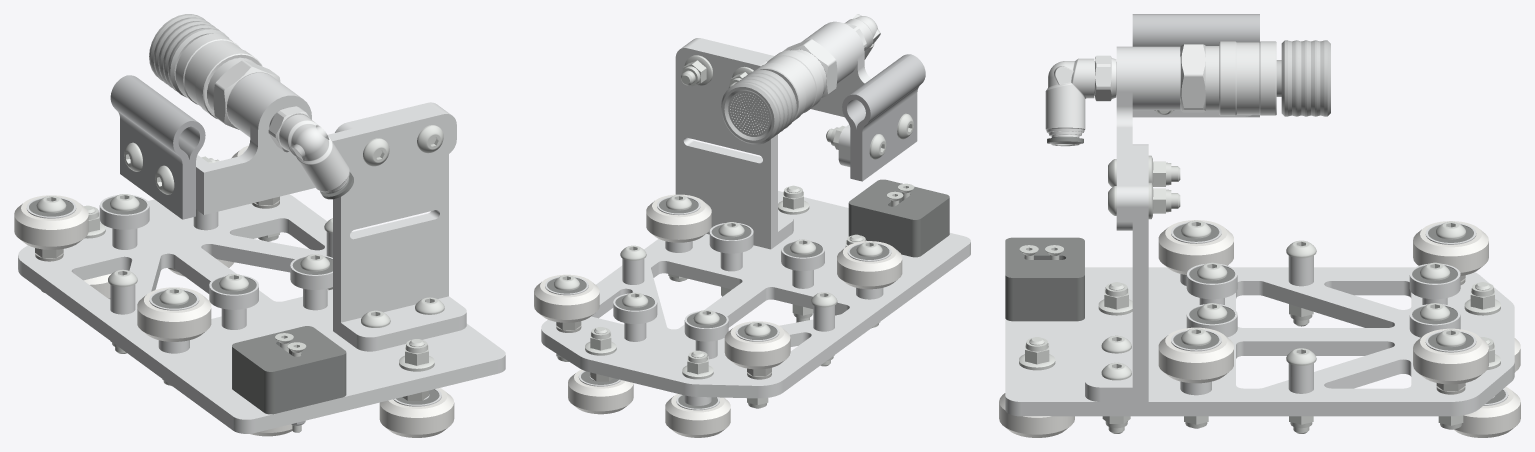
File: cross_slide_v19.glb
3 renders of one model, left to right at view 1: azimuth 30°, elevation 25°; view 2: azimuth 150°, elevation 25°; view 3: azimuth 270°, elevation 25°, orthographic. The views are drawn at different scales.
Visible parts, largest first — view 1: M5 Flange Locknut; view 2: M5 Flange Locknut; view 3: M5 Flange Locknut.
Boxes of the visible parts, left/top/right/bottom form: M5 Flange Locknut: left=14, top=14, right=505, bottom=437; M5 Flange Locknut: left=534, top=14, right=970, bottom=437; M5 Flange Locknut: left=999, top=14, right=1520, bottom=437.
Size of the model in its own units: 0.1047 by 0.1191 by 0.1639.
1 material, 1 textured.
